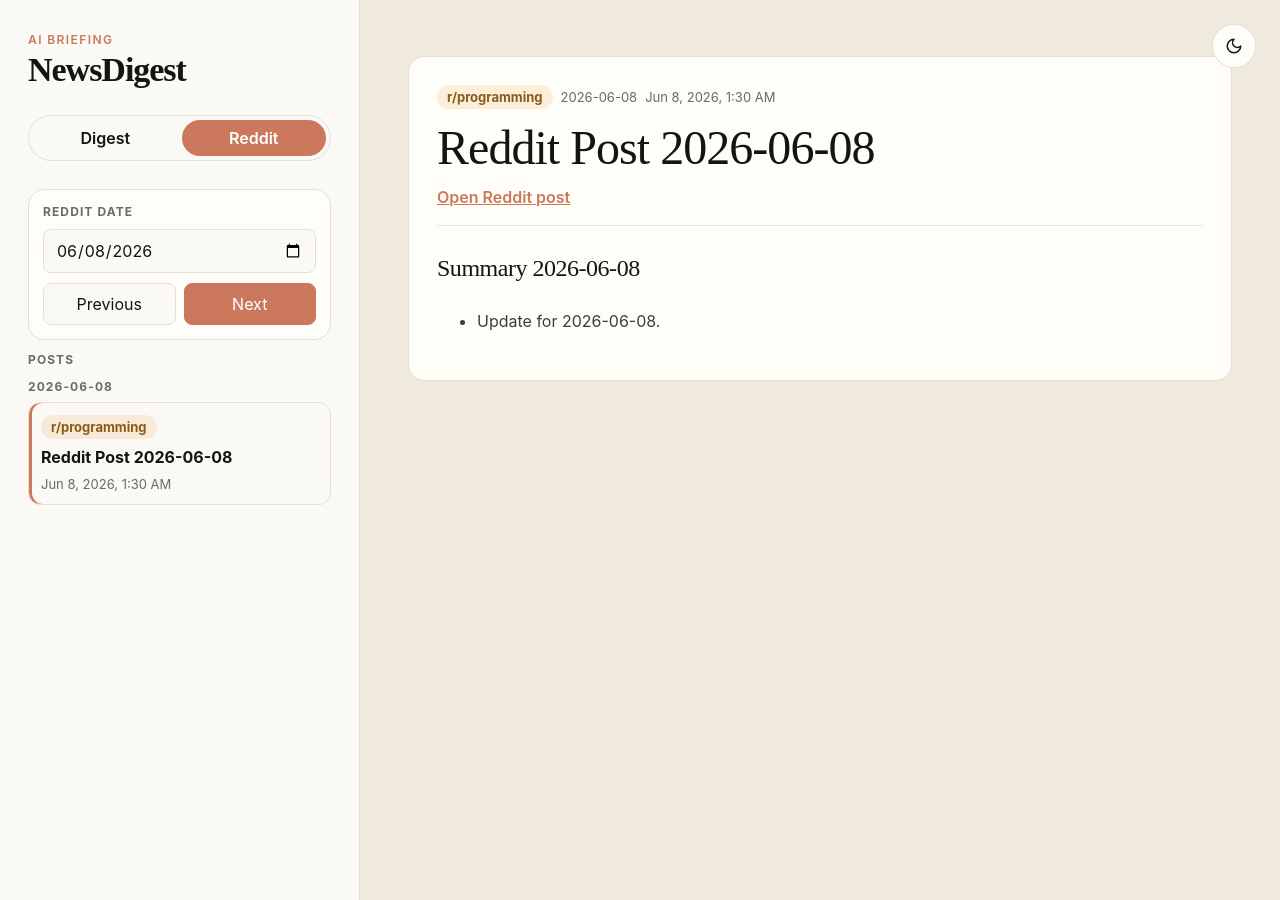
Test: App › loads Reddit posts by selected date with previous and next controls
Expected: the heading "Reddit Post 2026-06-08" is shown, [437, 121, 875, 174]
Click the button "Previous" at (109, 304), box [43, 283, 176, 325]
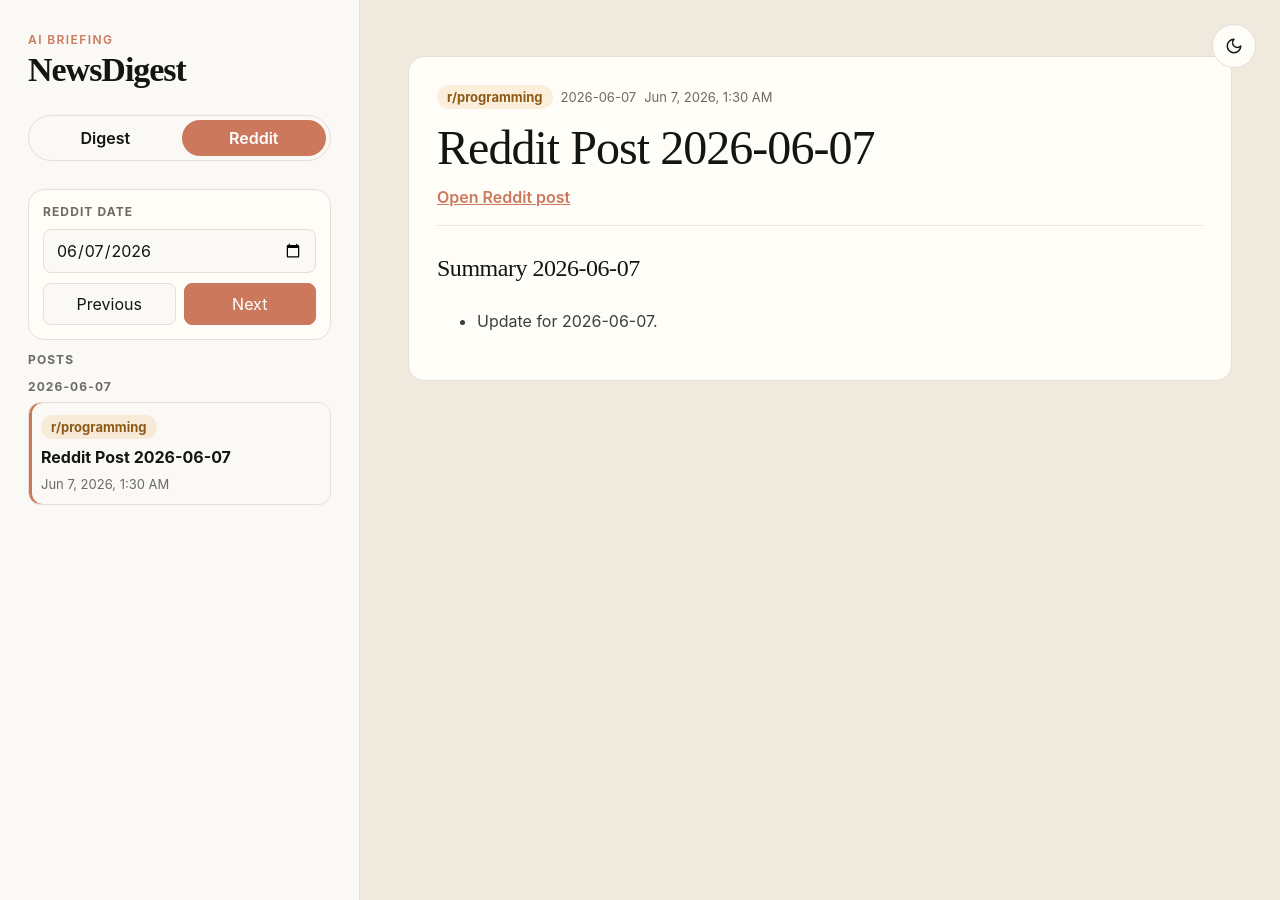
Expected: the heading "Reddit Post 2026-06-07" is shown, [437, 121, 875, 174]
Click the button "Next" at (250, 304), box [184, 283, 316, 325]
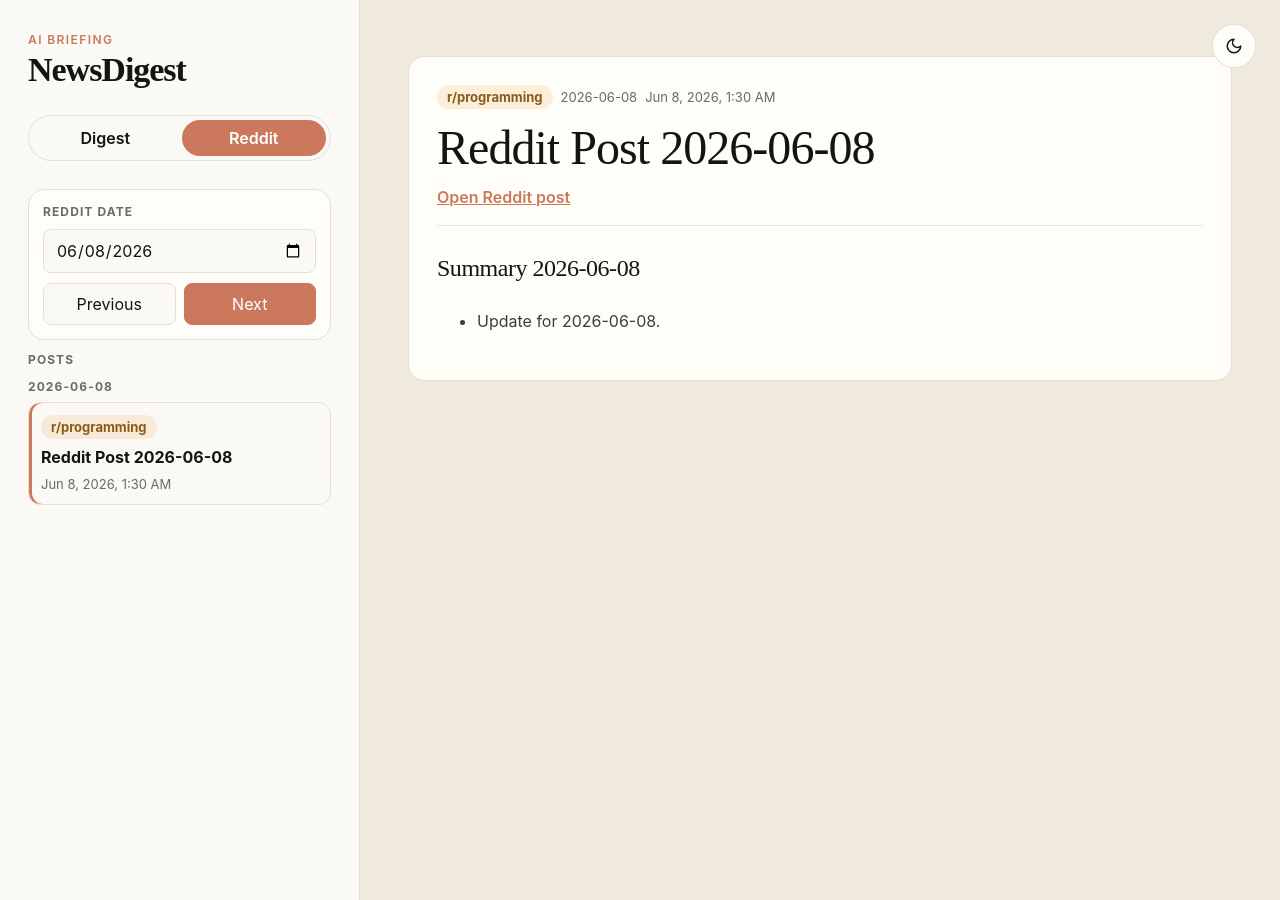
Expected: the heading "Reddit Post 2026-06-08" is shown, [437, 121, 875, 174]
